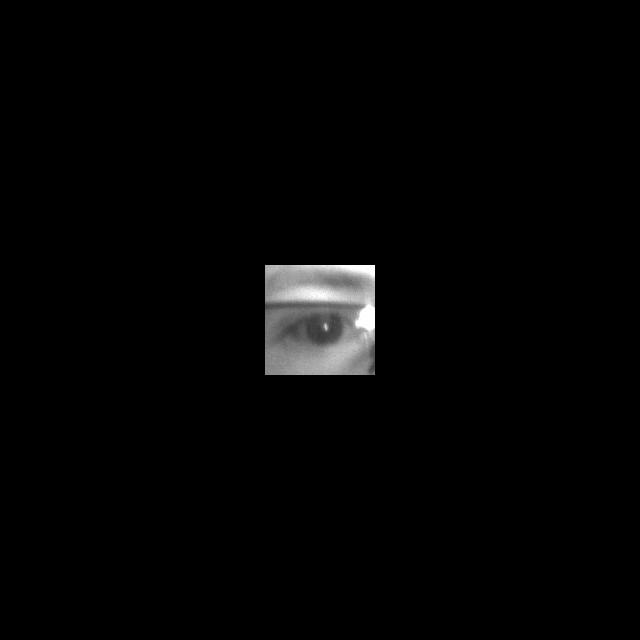eye: (294, 314, 356, 345)
iris: (308, 315, 342, 344)
